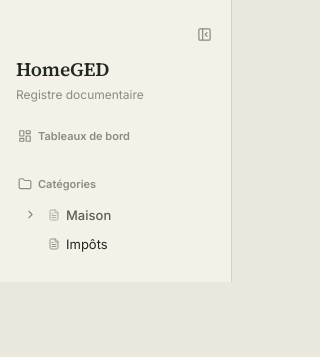
Test: navigation par catégories › ne filtre pas sur une racine qui regroupe des sous-catégories
This screenshot has width=320, height=357.
Click the button "Maison" at (128, 214), box [40,200,215,228]
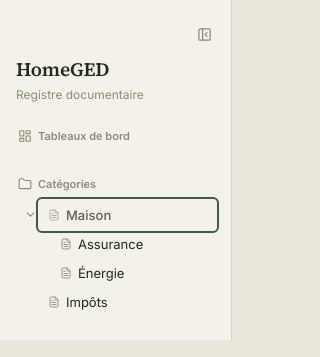
Now the button "Assurance" is shown, box [52,230,215,258]
